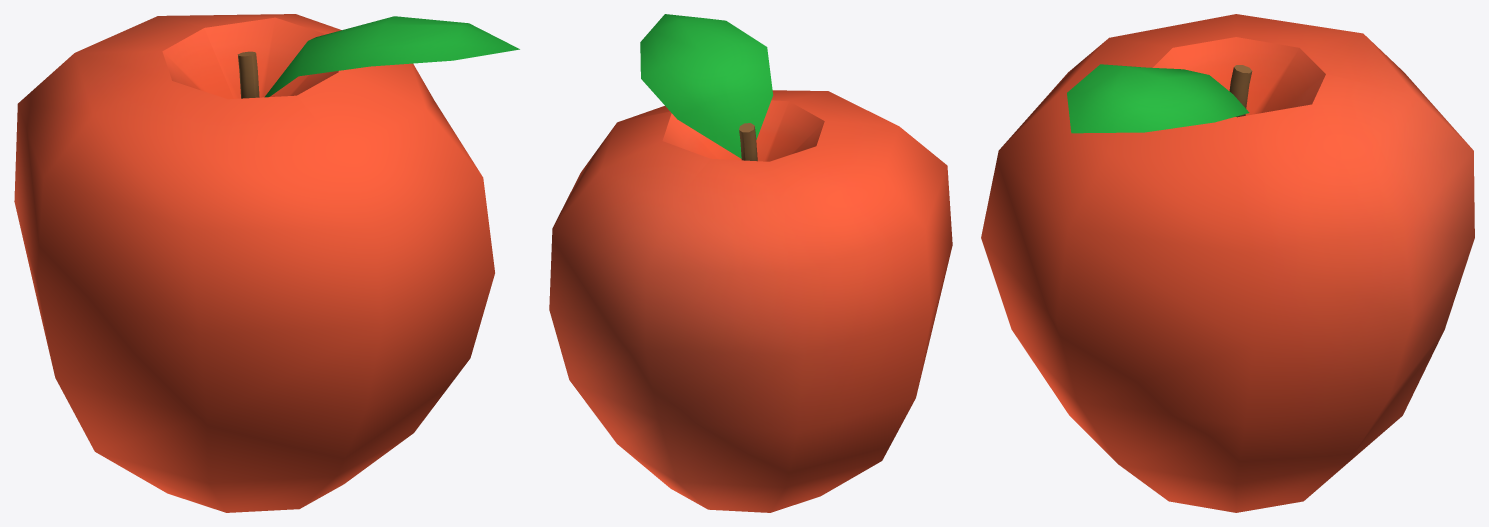
Rendered from ENV1810002.fbx.
3 renders of one model, left to right at view 1: azimuth 30°, elevation 25°; view 2: azimuth 150°, elevation 25°; view 3: azimuth 270°, elevation 25°, orthographic. The views are drawn at different scales.
Parts seen in each view (by area): view 1: smENV1810002; view 2: smENV1810002; view 3: smENV1810002.
Part boxes in pixels (x1,y1,x2,y2): smENV1810002: (14, 14, 519, 512); smENV1810002: (549, 14, 952, 512); smENV1810002: (981, 14, 1474, 512).
Size of the model in its own units: 8.63 by 9.4 by 9.23.
Materials: 1 (1 with a texture image).
